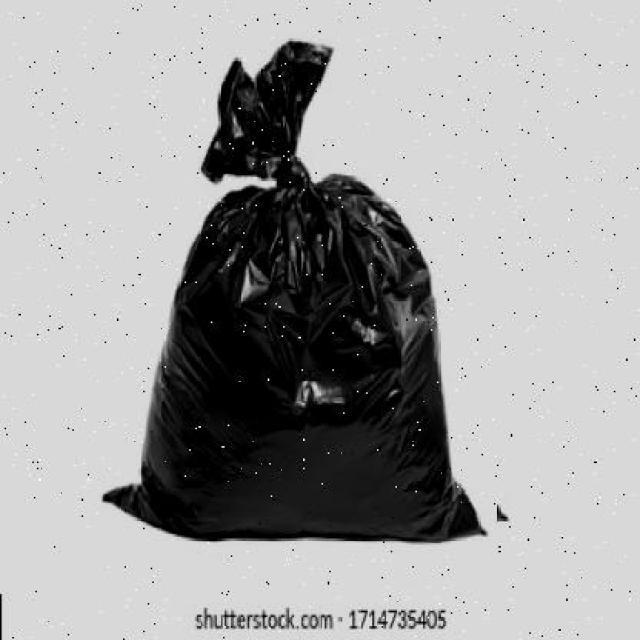Bolsa-de-nilon: (104, 41, 482, 541)
